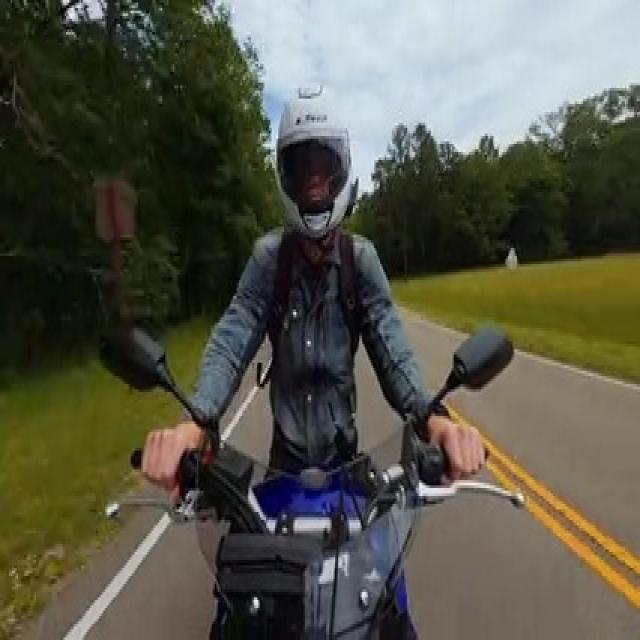Helmet_Wearer: (270, 67, 358, 229)
Person: (142, 79, 480, 493)
